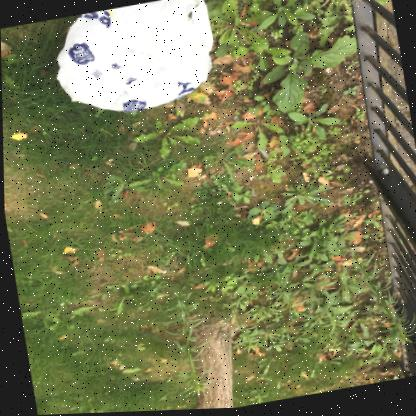Plastic: (55, 0, 211, 112)
